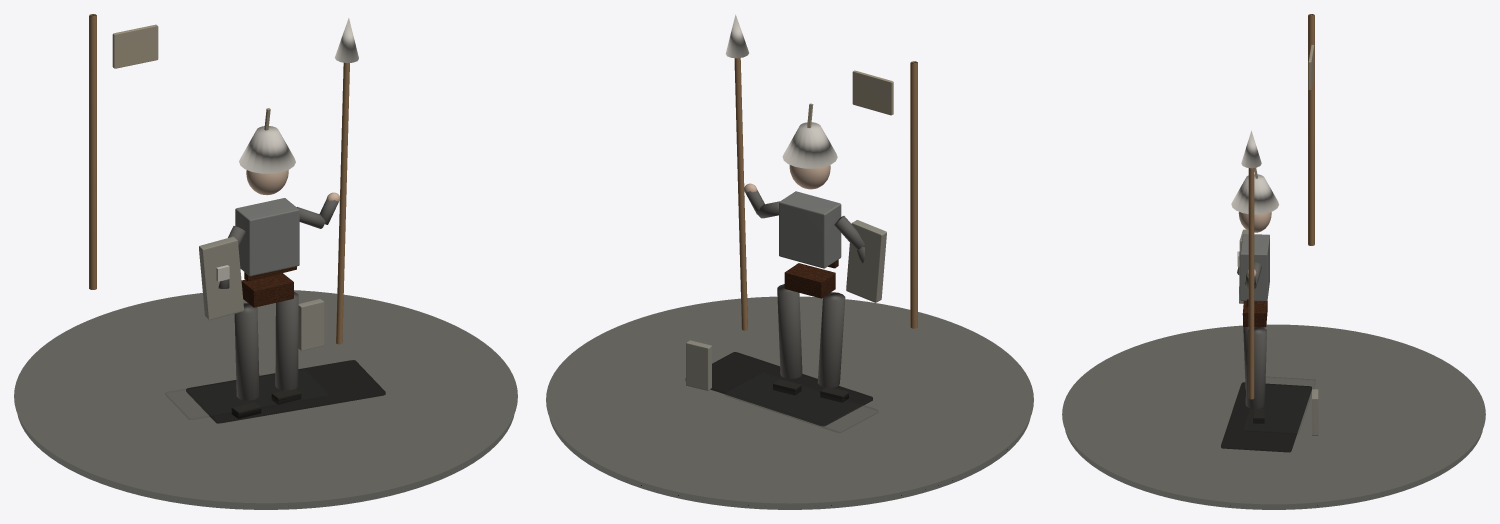
The model's file is infantry_troop.glb.
3 views of the same model, side by side, from view 1: azimuth 30°, elevation 25°; view 2: azimuth 150°, elevation 25°; view 3: azimuth 270°, elevation 25° (orthographic). The views are drawn at different scales.
Visible parts, largest first — view 1: infantry_thin_bronze_ring, infantry_shadow, infantry_guard_lamellar_torso, infantry_stone_dais, infantry_guard_tower_shield, infantry_banner_pole, infantry_guard_left_leg, infantry_guard_right_leg, infantry_guard_spear_shaft, infantry_guard_helmet, infantry_banner_flag, infantry_guard_belted_pelvis (+4 smaller); view 2: infantry_thin_bronze_ring, infantry_shadow, infantry_guard_lamellar_torso, infantry_stone_dais, infantry_guard_tower_shield, infantry_guard_left_leg, infantry_banner_pole, infantry_guard_right_leg, infantry_guard_spear_shaft, infantry_guard_helmet, infantry_banner_flag, infantry_guard_belted_pelvis (+4 smaller); view 3: infantry_thin_bronze_ring, infantry_shadow, infantry_stone_dais, infantry_guard_spear_shaft, infantry_guard_lamellar_torso, infantry_banner_pole, infantry_guard_right_leg, infantry_guard_helmet, infantry_guard_belted_pelvis.
Part boxes in pixels (<box>): infantry_thin_bronze_ring: <box>14,290,517,503</box>; infantry_shadow: <box>186,360,385,423</box>; infantry_guard_lamellar_torso: <box>235,198,299,276</box>; infantry_stone_dais: <box>17,415,514,509</box>; infantry_guard_tower_shield: <box>199,236,243,320</box>; infantry_banner_pole: <box>89,14,96,289</box>; infantry_guard_left_leg: <box>234,303,259,400</box>; infantry_guard_right_leg: <box>275,292,298,390</box>; infantry_guard_spear_shaft: <box>336,62,349,344</box>; infantry_guard_helmet: <box>239,126,295,173</box>; infantry_banner_flag: <box>112,24,158,68</box>; infantry_guard_belted_pelvis: <box>241,273,293,307</box>; infantry_thin_bronze_ring: <box>546,296,1033,503</box>; infantry_shadow: <box>685,352,872,426</box>; infantry_guard_lamellar_torso: <box>779,191,841,268</box>; infantry_stone_dais: <box>549,417,1030,509</box>; infantry_guard_tower_shield: <box>846,220,886,302</box>; infantry_guard_left_leg: <box>817,292,845,387</box>; infantry_banner_pole: <box>910,61,917,328</box>; infantry_guard_right_leg: <box>777,284,802,378</box>; infantry_guard_spear_shaft: <box>734,58,747,330</box>; infantry_guard_helmet: <box>782,122,837,168</box>; infantry_banner_flag: <box>852,70,893,115</box>; infantry_guard_belted_pelvis: <box>784,263,835,298</box>; infantry_thin_bronze_ring: <box>1062,324,1485,504</box>; infantry_shadow: <box>1221,382,1311,452</box>; infantry_stone_dais: <box>1065,430,1482,509</box>; infantry_guard_spear_shaft: <box>1248,168,1254,399</box>; infantry_guard_lamellar_torso: <box>1240,234,1269,301</box>; infantry_banner_pole: <box>1308,14,1314,245</box>; infantry_guard_right_leg: <box>1245,327,1266,408</box>; infantry_guard_helmet: <box>1231,174,1278,214</box>; infantry_guard_belted_pelvis: <box>1243,301,1267,327</box>.
Size of the model in its own units: 2.26 by 2.03 by 2.26.
Materials: 13 (1 with a texture image).
